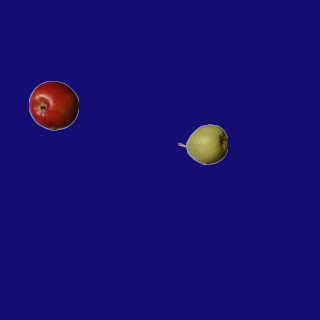Apple Braeburn: (28, 80, 78, 130)
Pear: (177, 119, 227, 169)
